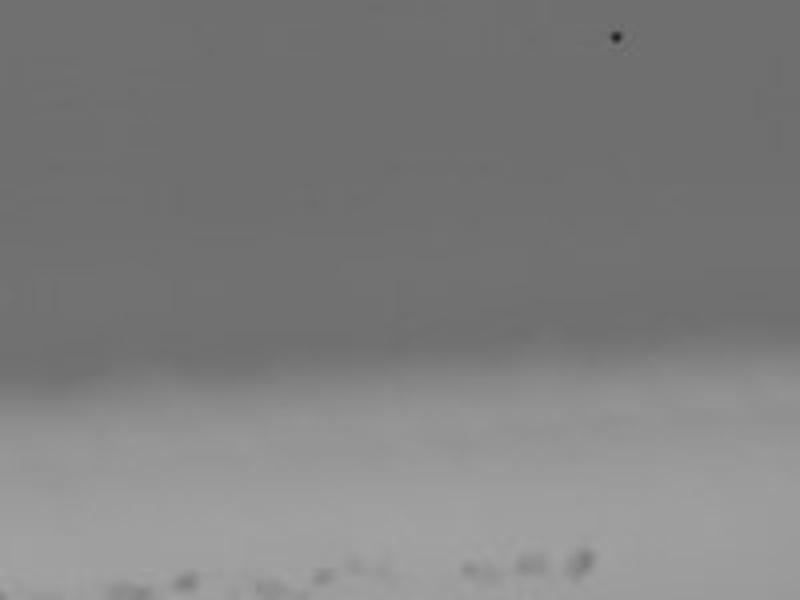defect: (461, 554, 503, 589), (564, 544, 600, 582), (254, 576, 304, 600), (103, 578, 155, 600), (515, 547, 546, 578), (341, 549, 371, 577), (171, 570, 196, 592), (377, 557, 399, 582), (312, 562, 332, 587), (608, 26, 627, 47), (220, 589, 239, 600)
